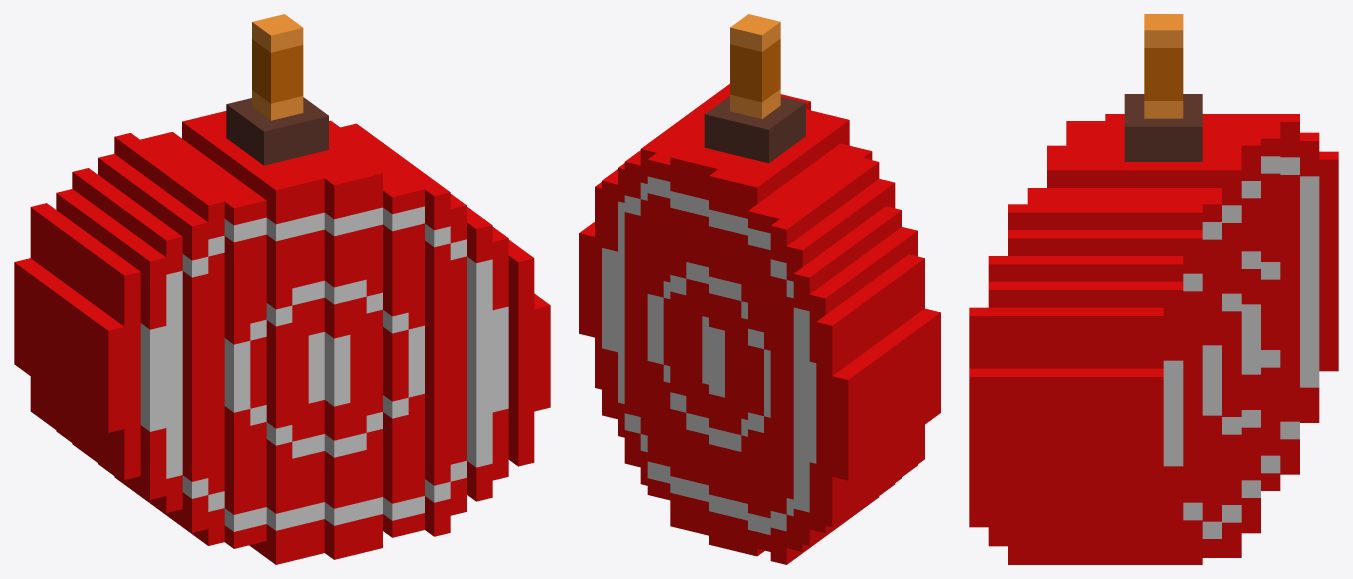
File: Going Up8.obj
3 views of the same model, side by side, from view 1: azimuth 30°, elevation 25°; view 2: azimuth 150°, elevation 25°; view 3: azimuth 270°, elevation 25° (orthographic). The views are drawn at different scales.
Size of the model in its own units: 22 by 29 by 19.
1 material, 1 textured.
